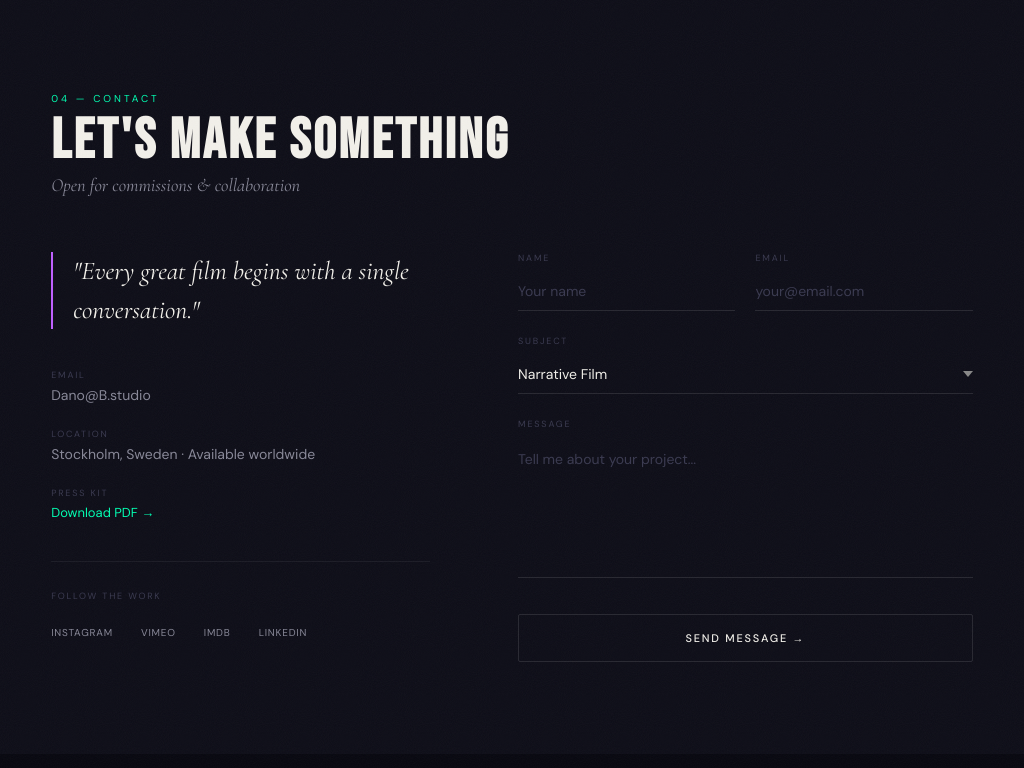
Scenario: Contact › shows validation errors when submitted empty
This screenshot has width=1024, height=768.
Step 1. Click the button "Send Message →" → (745, 638), box [518, 614, 973, 662]
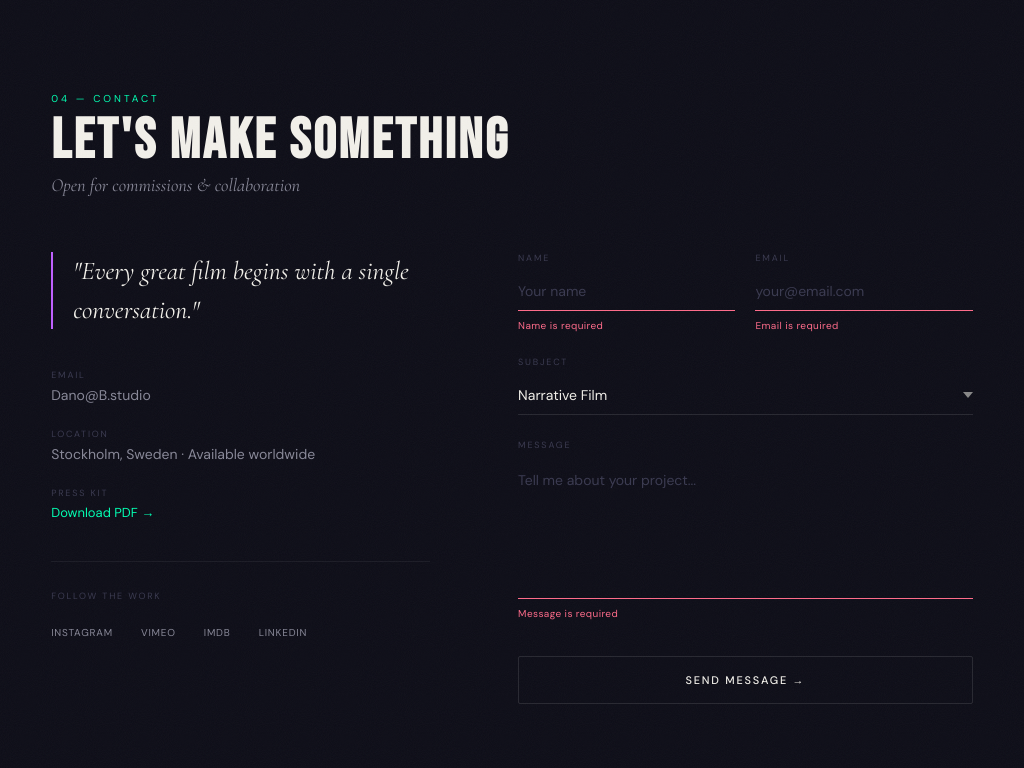
Expected: the text "Name is required" is shown, [518, 319, 603, 332]
Expected: the text "Email is required" is shown, [756, 319, 839, 332]
Expected: the text "Message is required" is shown, [518, 607, 618, 620]
